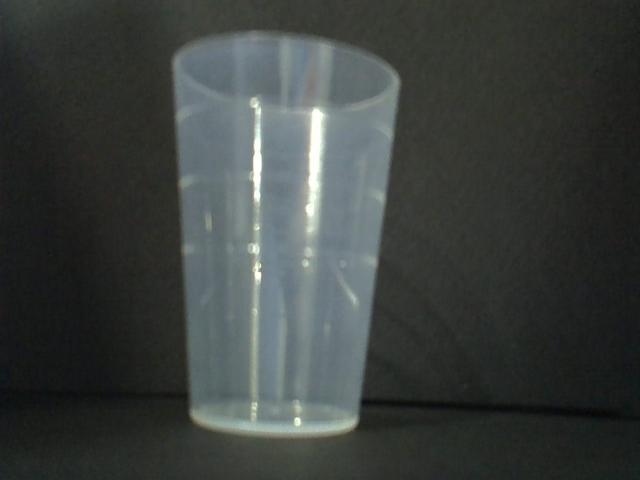cup: (169, 31, 404, 441)
